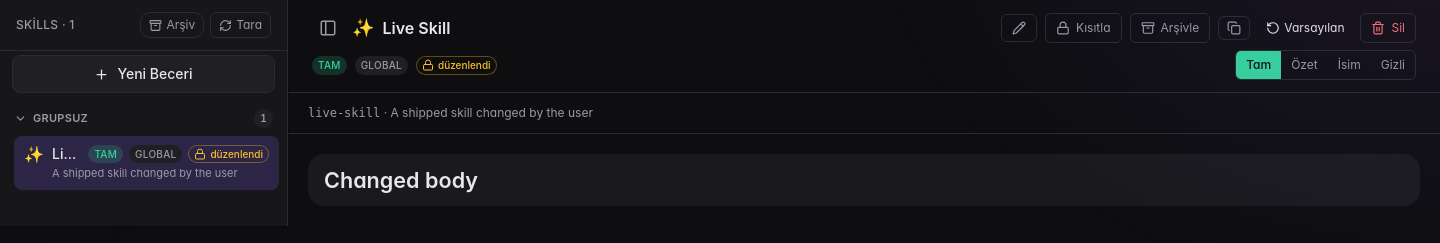
Test: SkillsPanel archive view › lists only live skills by default and only archived ones in the archive view
Step 1. Click the button with test id "skills-archived-toggle" → (172, 25), box [140, 12, 204, 38]
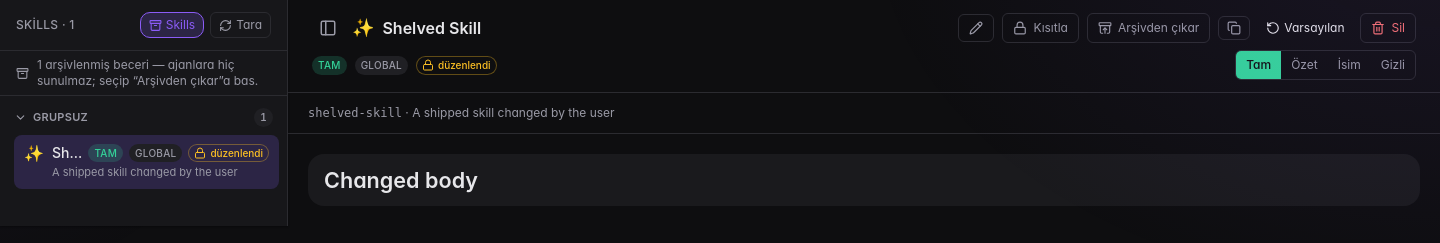
Expected: the element with test id "skills-archive-banner" is shown, [0, 51, 287, 96]
Expected: the text "Shelved Skill" is shown, [52, 143, 82, 163]
